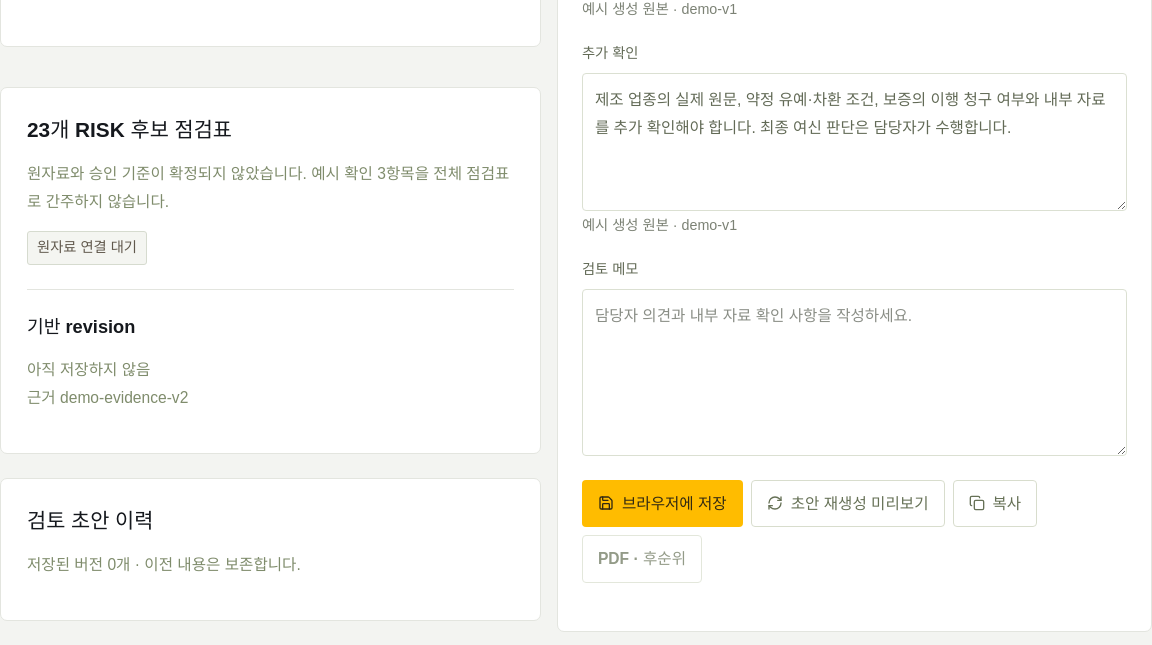
Test: does not apply regeneration after new edits arrive during the request
The width and height of the screenshot is (1152, 645).
(page scrolled)
Click the button "초안 재생성 미리보기" at (848, 504), box 751,480 -> 944,527
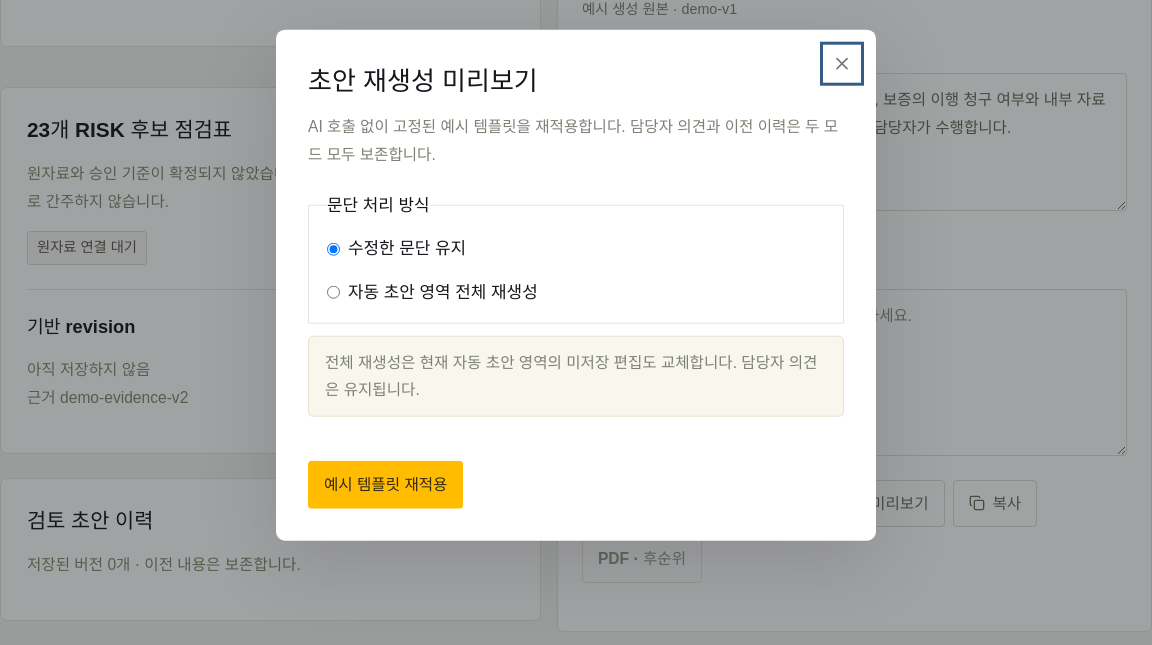
Click the button "예시 템플릿 재적용" at (386, 485), box 308,461 -> 463,508
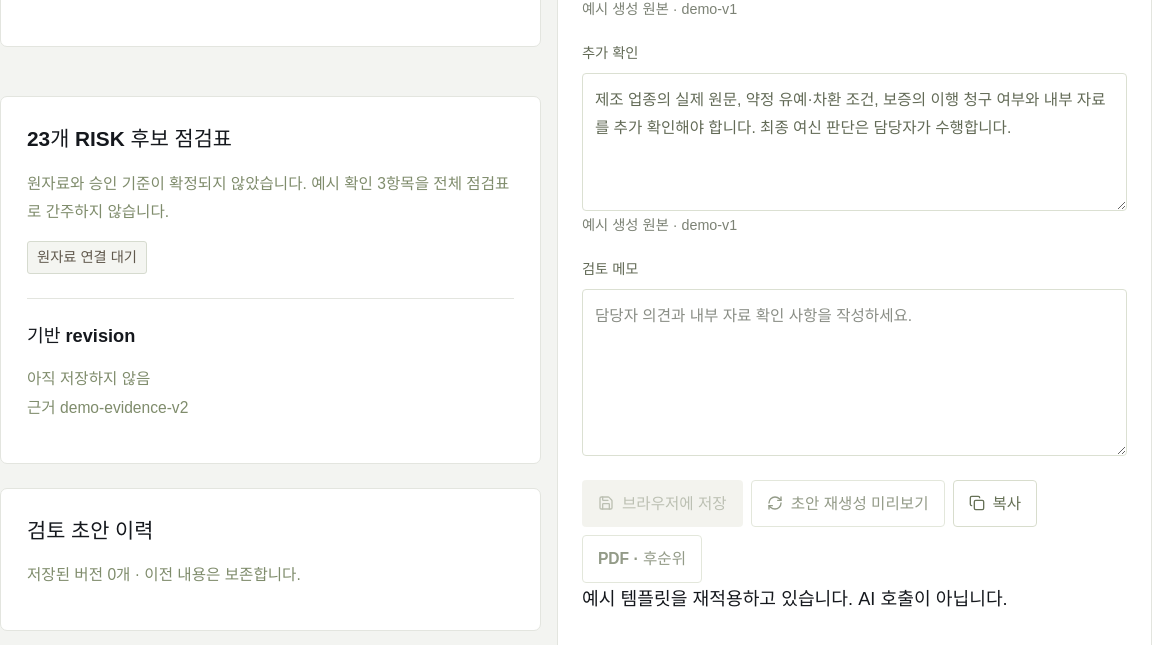
Type "생성 도중 새 의견" into the text box labelled "검토 메모" at (854, 373), box 582,290 -> 1127,456
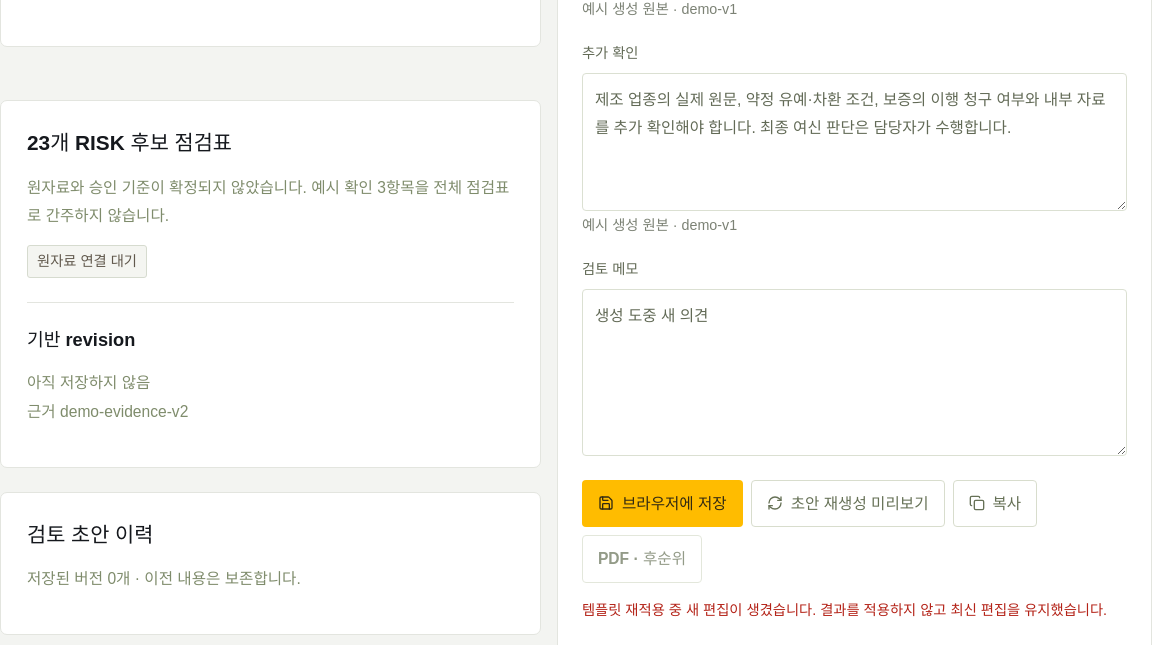
Expected: the message shows "새 편집이 생겼습니다", 582,602 -> 1107,618
